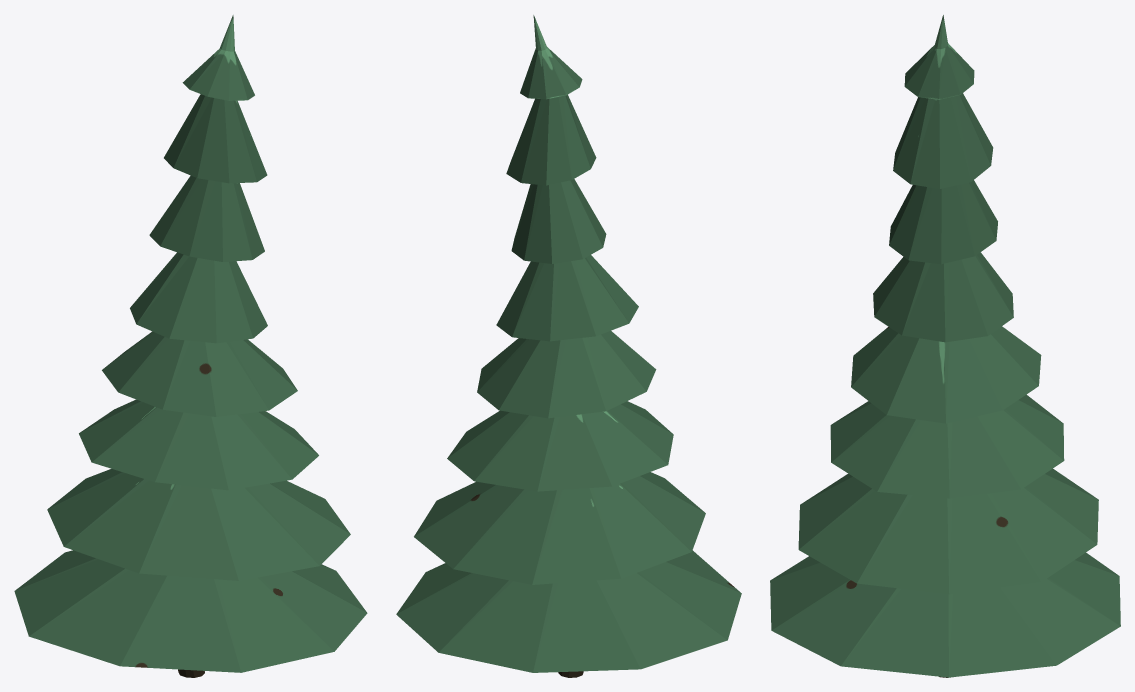
File: PT_tree_002 1.FBX
The picture shows the model from 3 angles, left to right: view 1: azimuth 30°, elevation 25°; view 2: azimuth 150°, elevation 25°; view 3: azimuth 270°, elevation 25°; orthographic projection. The views are drawn at different scales.
Visible parts, largest first — view 1: Cylinder014; view 2: Cylinder014; view 3: Cylinder014.
Boxes of the visible parts, x1,y1,x2,y2 form: Cylinder014: (14,15,367,677); Cylinder014: (396,15,741,677); Cylinder014: (770,15,1120,677).
Bounding box in the file's own units: 27.74 × 56.43 × 26.44.
Materials: 1 (1 with a texture image).
